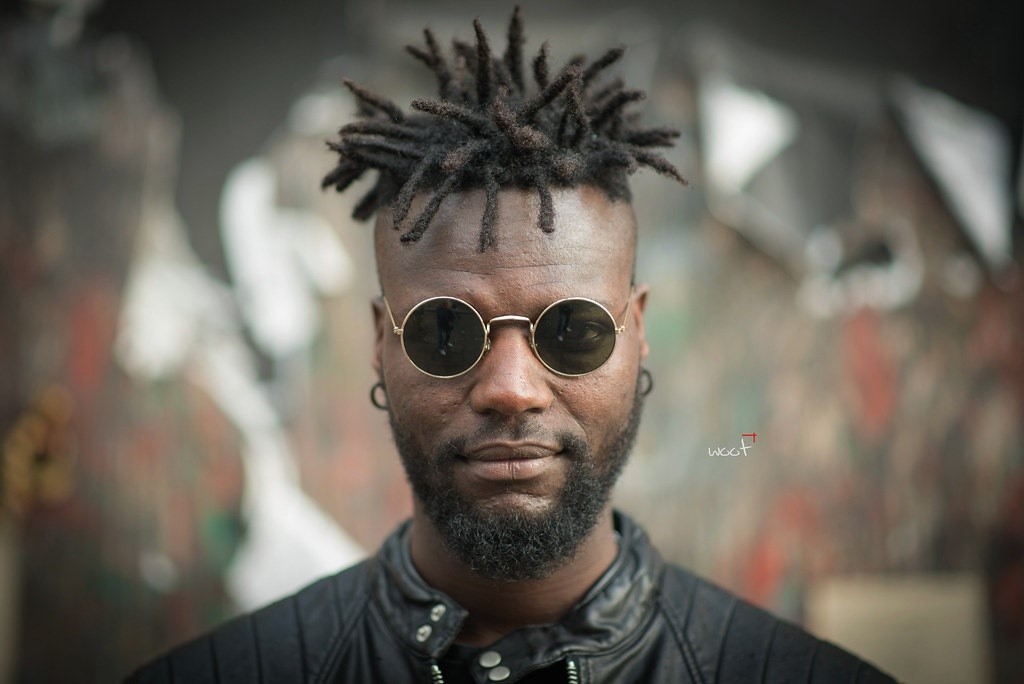face_no_mask: (363, 121, 649, 567)
